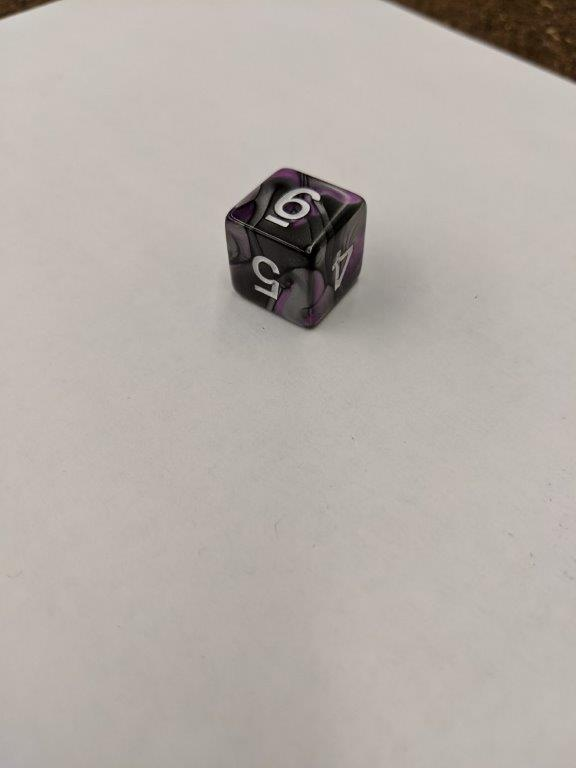d6-6: (226, 169, 370, 327)
